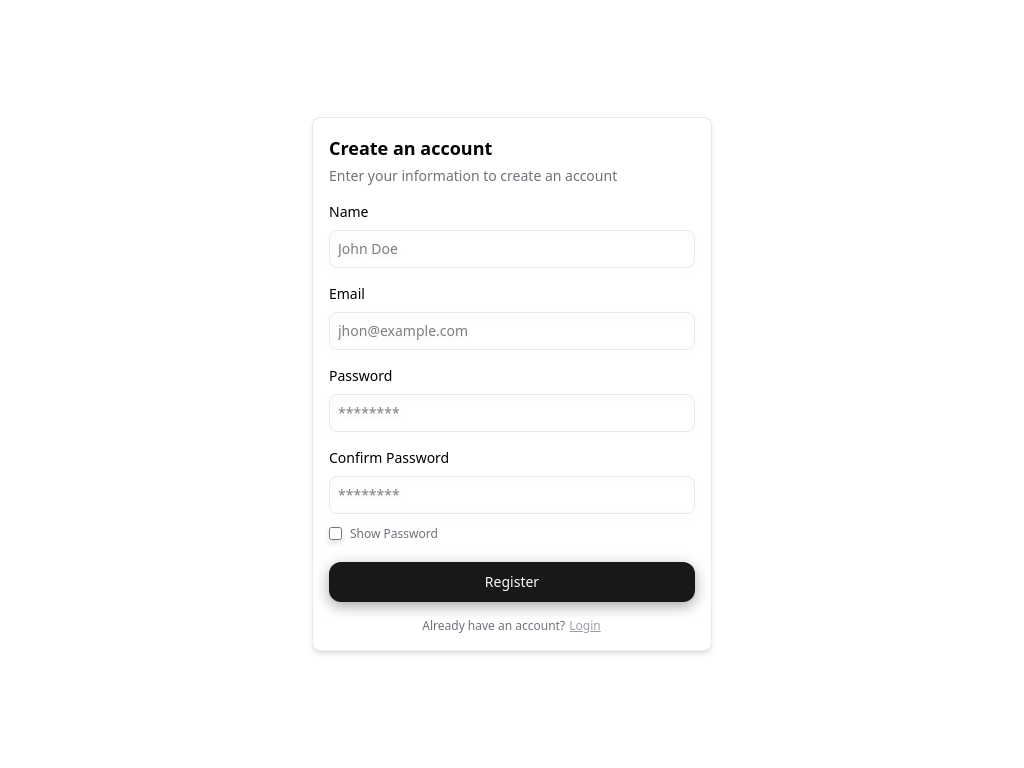
it: Register API › Should register a new user
Type "Jhon Doe" into the field labelled "Name" at (512, 249), box [329, 230, 695, 268]
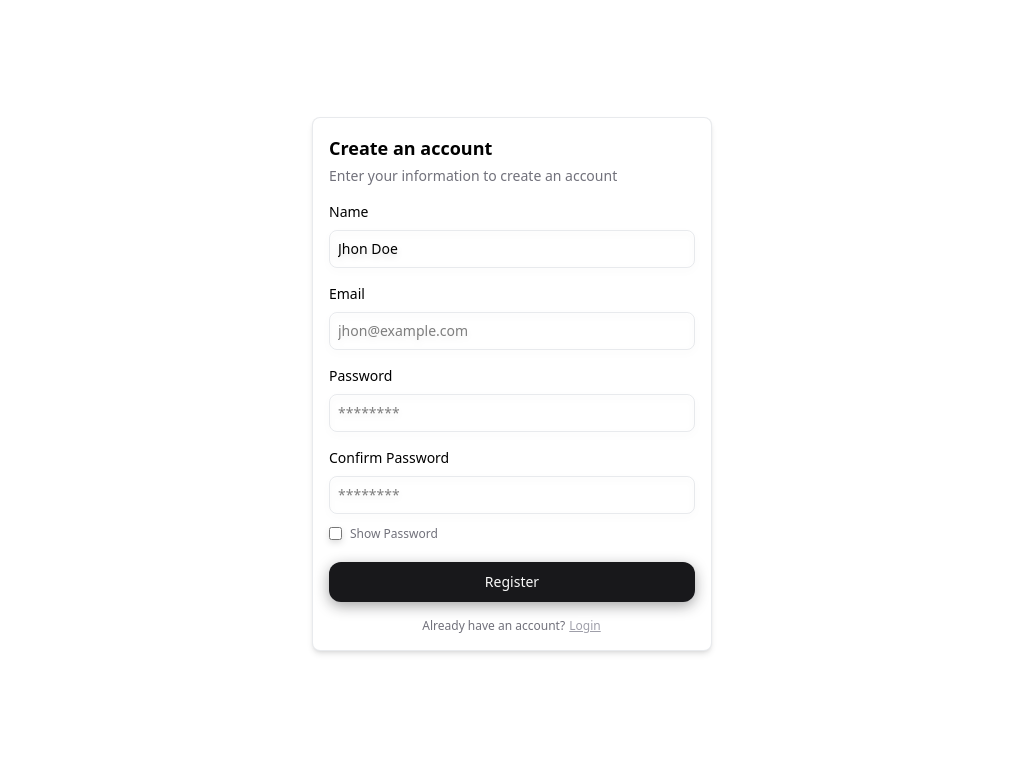
Type "jhon.doe.test@email.com" into the field labelled "Email" at (512, 331), box [329, 312, 695, 350]
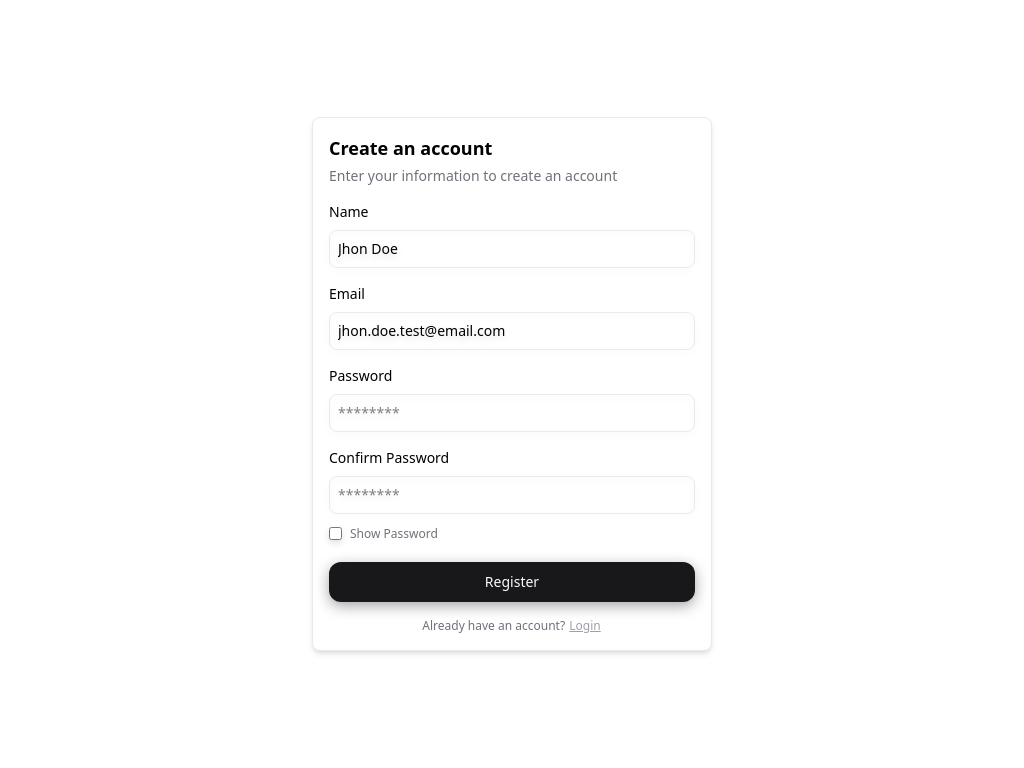
Type "password123!P" into the password field labelled "Password" at (512, 413), box [329, 394, 695, 432]
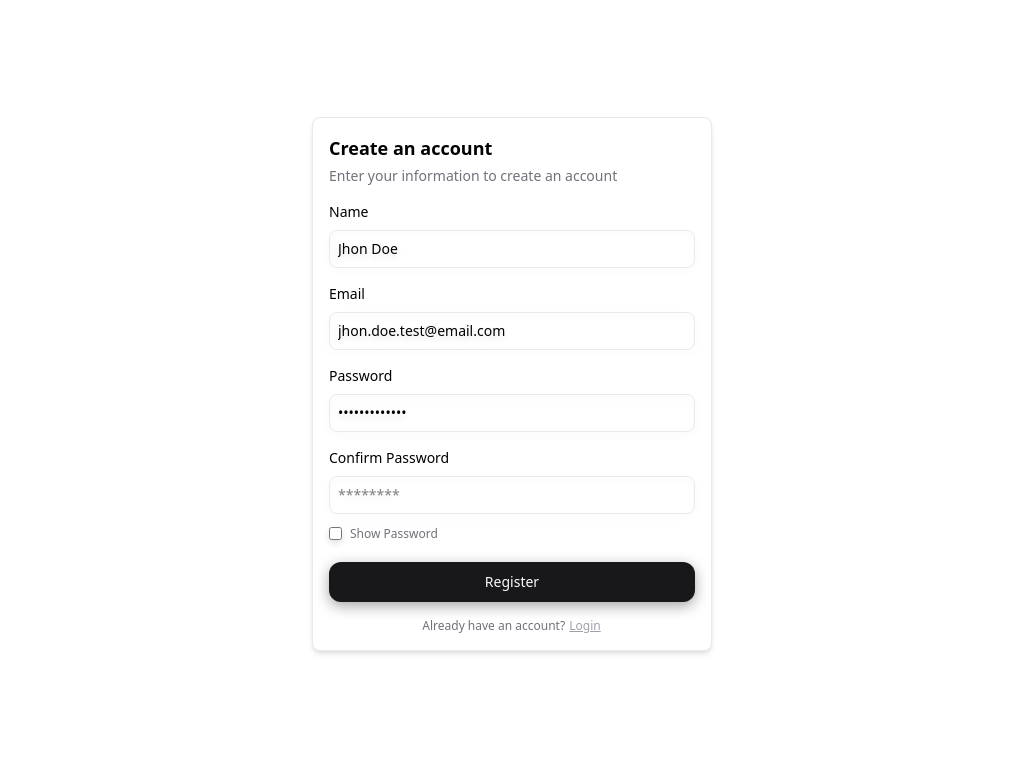
Type "password123!P" into the password field labelled "Confirm Password" at (512, 495), box [329, 476, 695, 514]
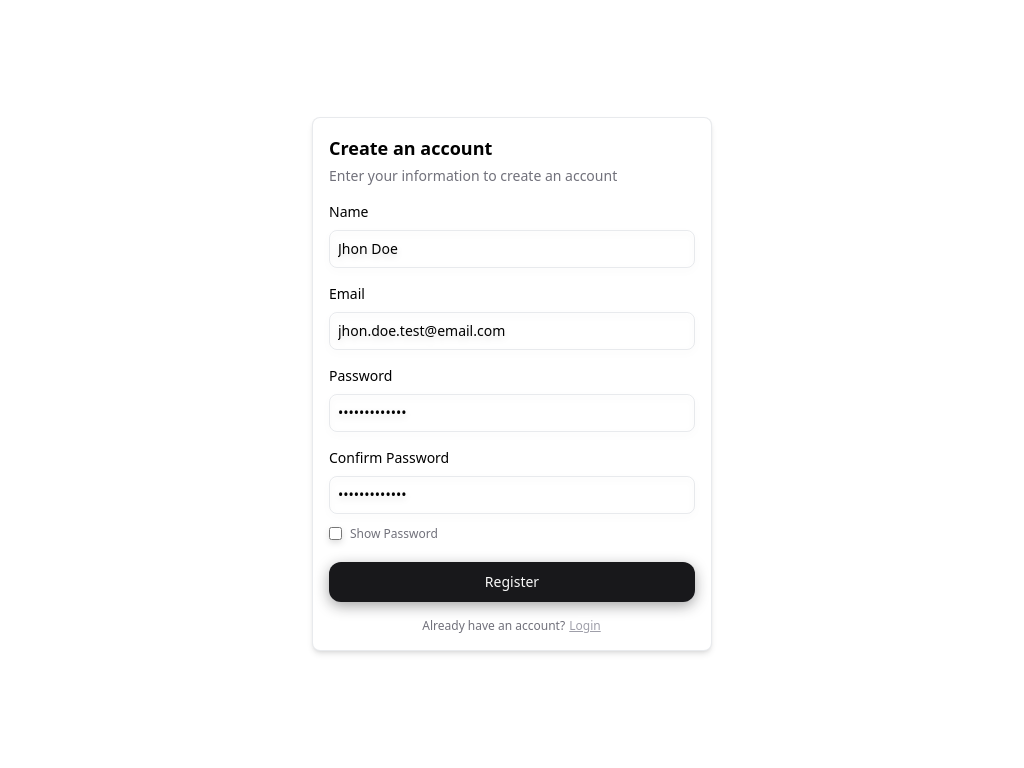
Click the button "Register" at (512, 582), box [329, 562, 695, 602]
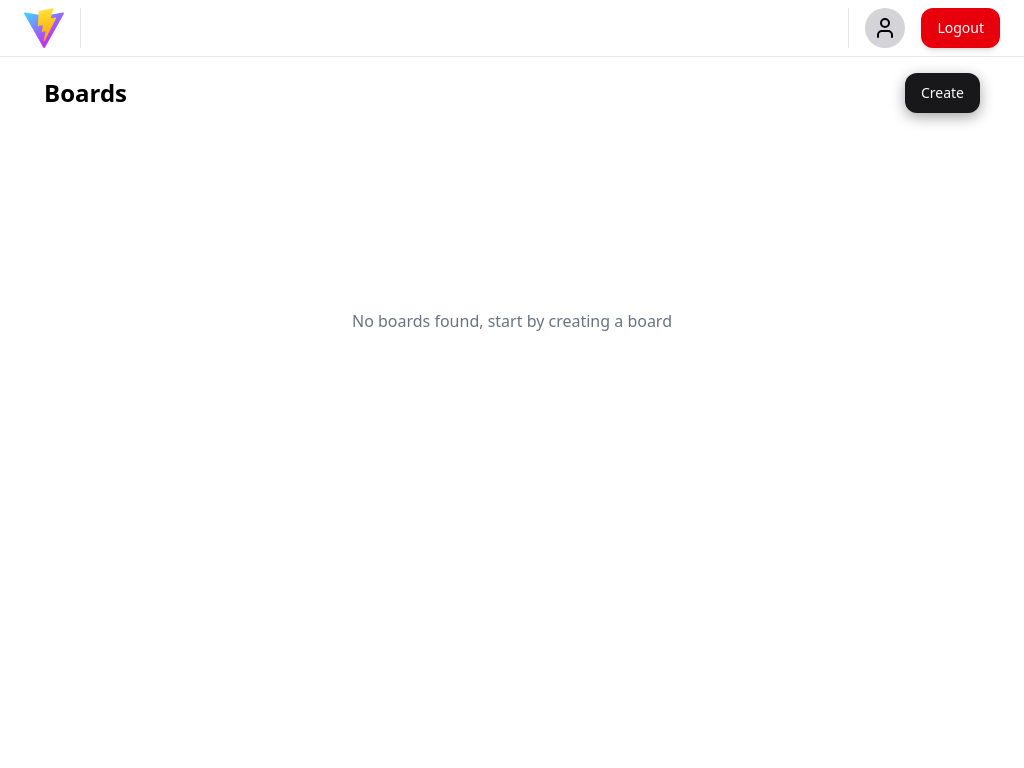
Result: the heading "Boards" is shown at [44, 77, 127, 109]
